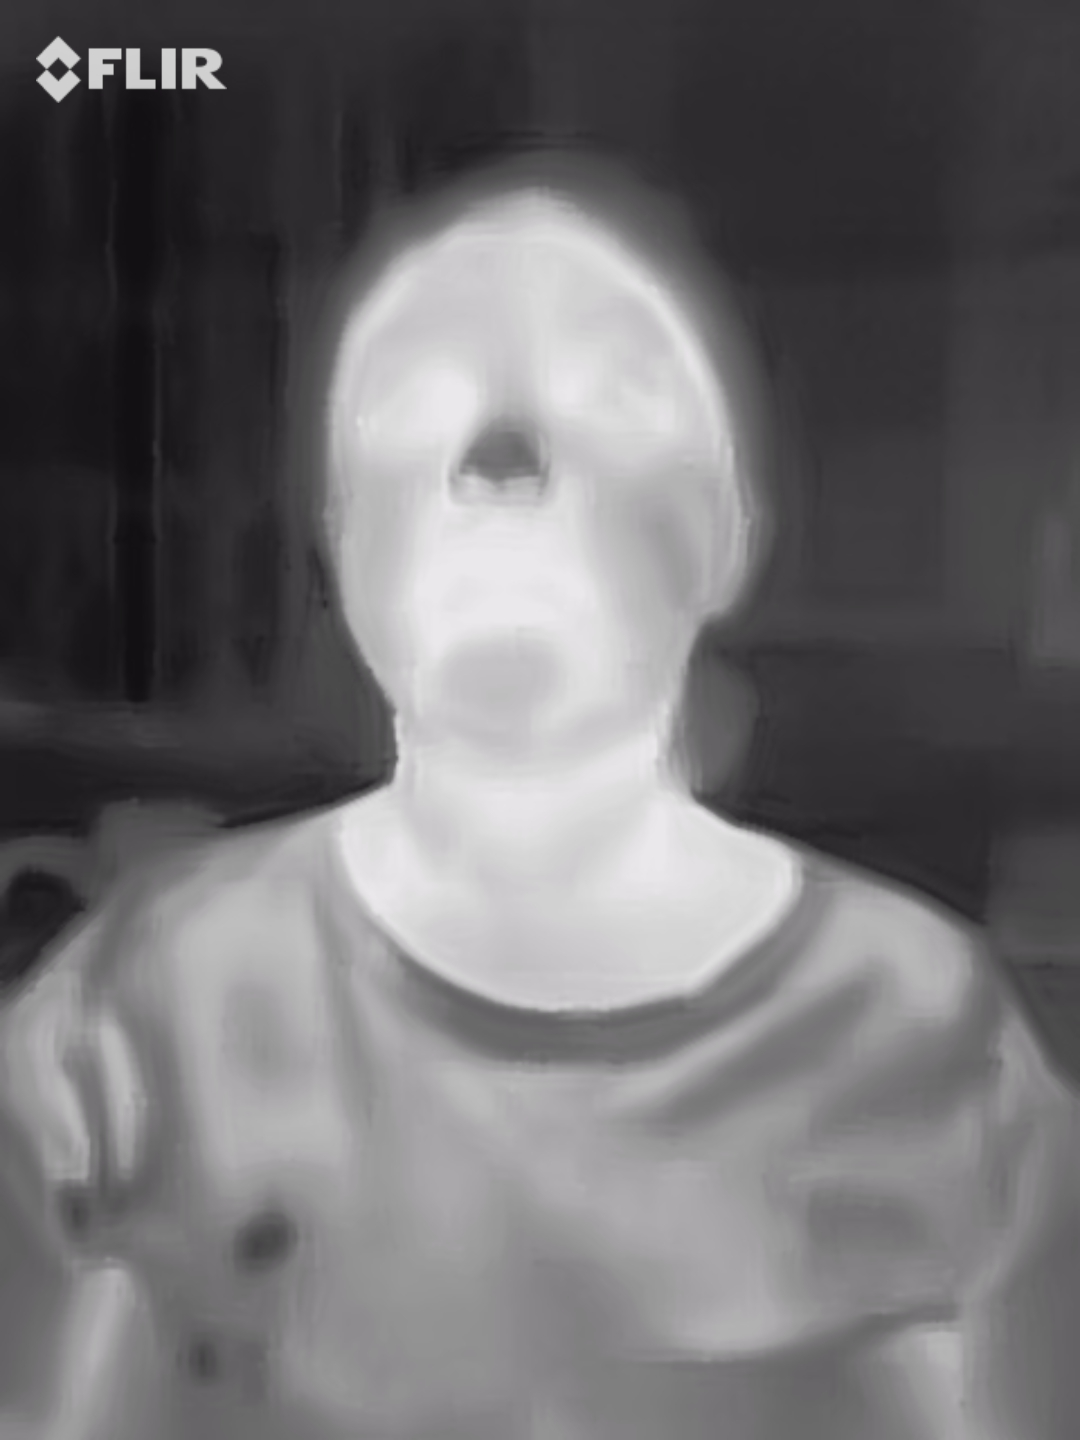head: (317, 151, 776, 771)
